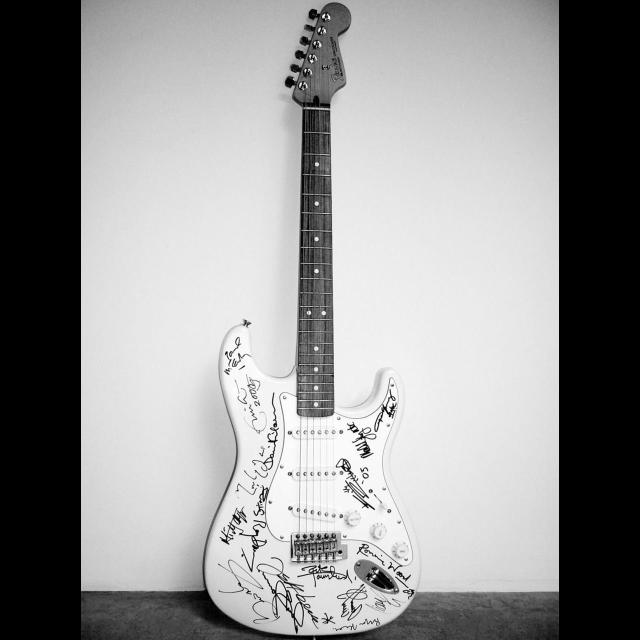Electric-Guitar: (164, 12, 474, 640)
